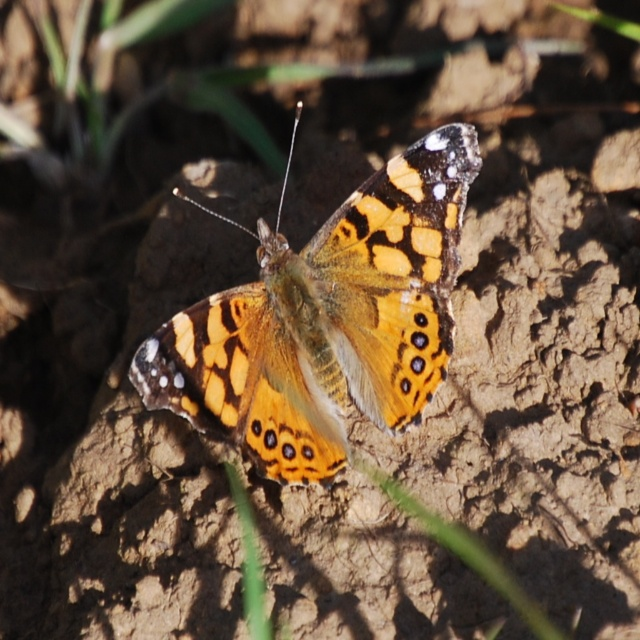Butterfly: (124, 94, 483, 480)
